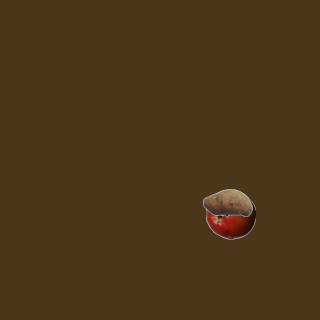Apple Braeburn: (205, 189, 255, 239)
Potato Sweet: (202, 177, 252, 227)
